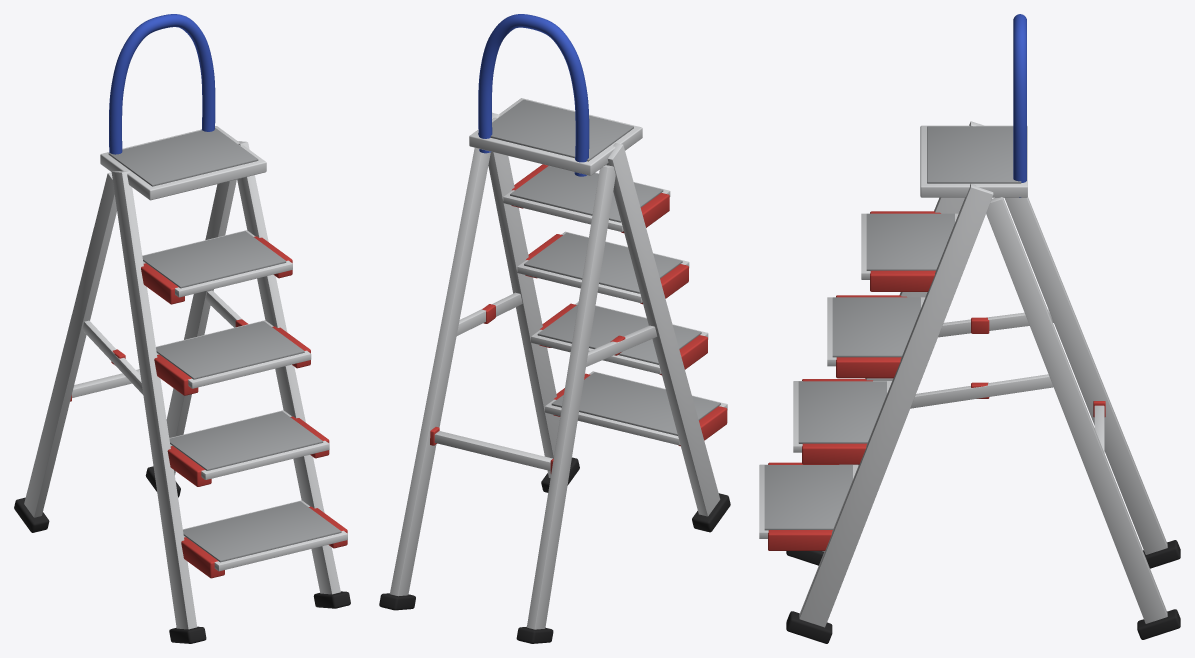
File: 折叠梯.glb
3 renders of one model, left to right at view 1: azimuth 30°, elevation 25°; view 2: azimuth 150°, elevation 25°; view 3: azimuth 270°, elevation 25°, orthographic. The views are drawn at different scales.
Parts seen in each view (by area): view 1: 前腿_L, 后腿_L, 前腿_R, 踏面_01, 踏面_02, 顶面_防滑, 踏面_03, 踏面_04, 提手_蓝, 后腿_R, 顶板, 踏板_01 (+13 smaller); view 2: 前腿_L, 后腿_L, 后腿_R, 前腿_R, 顶面_防滑, 提手_蓝, 踏面_01, 踏面_03, 踏面_04, 踏面_02, 顶板, 后横撑 (+13 smaller); view 3: 前腿_R, 后腿_R, 后腿_L, 踏面_01, 踏面_02, 顶面_防滑, 踏面_03, 踏面_04, 提手_蓝, 顶板, 撑杆_R, 踏板托架_04_R (+7 smaller).
Boxes of the visible parts, x1,y1,x2,y2 form: 前腿_L: [111, 171, 197, 629]; 后腿_L: [24, 172, 116, 517]; 前腿_R: [237, 141, 340, 594]; 踏面_01: [183, 501, 341, 562]; 踏面_02: [169, 411, 323, 470]; 顶面_防滑: [108, 128, 258, 186]; 踏面_03: [156, 321, 304, 379]; 踏面_04: [142, 231, 286, 288]; 提手_蓝: [109, 14, 215, 154]; 后腿_R: [166, 179, 236, 474]; 顶板: [100, 126, 266, 200]; 踏板_01: [183, 500, 347, 571]; 前腿_L: [606, 143, 720, 516]; 后腿_L: [527, 165, 615, 629]; 后腿_R: [390, 148, 490, 596]; 前腿_R: [488, 112, 560, 477]; 顶面_防滑: [478, 99, 633, 161]; 提手_蓝: [478, 14, 589, 176]; 踏面_01: [551, 372, 720, 435]; 踏面_03: [524, 232, 682, 293]; 踏面_04: [510, 166, 663, 222]; 踏面_02: [537, 304, 701, 364]; 顶板: [469, 98, 642, 175]; 后横撑: [434, 431, 552, 470]; 前腿_R: [799, 183, 993, 627]; 后腿_R: [986, 197, 1167, 623]; 后腿_L: [1004, 197, 1167, 554]; 踏面_01: [764, 465, 852, 530]; 踏面_02: [798, 381, 886, 443]; 顶面_防滑: [927, 126, 1021, 183]; 踏面_03: [832, 297, 920, 357]; 踏面_04: [866, 213, 954, 270]; 提手_蓝: [1013, 14, 1026, 197]; 顶板: [920, 125, 1027, 197]; 撑杆_R: [910, 374, 1053, 408]; 踏板托架_04_R: [870, 270, 935, 291].
Size of the model in its own units: 0.482 by 1.54 by 1.01.
